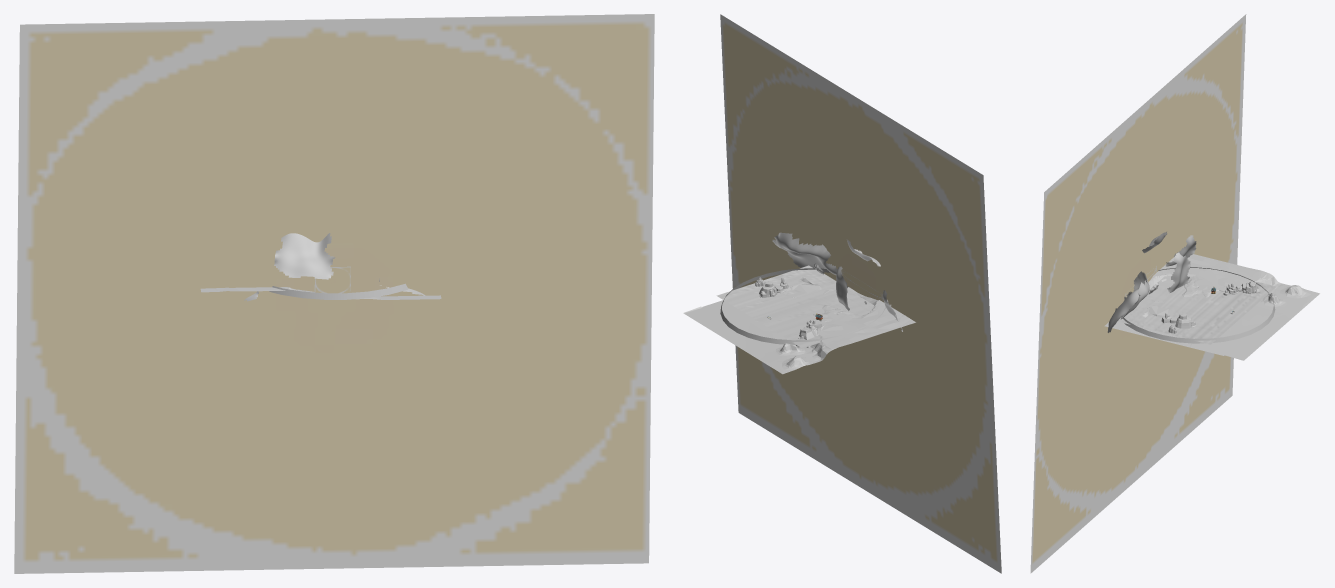
The model's file is Background_Morning (merge).fbx.
3 views of the same model, side by side, from view 1: azimuth 30°, elevation 25°; view 2: azimuth 150°, elevation 25°; view 3: azimuth 270°, elevation 25° (orthographic). The views are drawn at different scales.
Parts seen in each view (by area): view 1: Sun Shaft, Cloud004 (2), Sky_Inner; view 2: Sun Shaft, Ground001, wave001, Cloud005, Sky_Inner, LobbyGround; view 3: Sun Shaft, Ground001, wave001, Sky_Inner, Cloud005, LobbyGround, Cloud004.
Part boxes in pixels (x1=…): Sun Shaft: x1=14, y1=14, x2=654, y2=573; Cloud004 (2): x1=274, y1=233, x2=335, y2=279; Sky_Inner: x1=269, y1=283, x2=407, y2=299; Sun Shaft: x1=720, y1=14, x2=1001, y2=573; Ground001: x1=683, y1=274, x2=915, y2=374; wave001: x1=716, y1=265, x2=873, y2=348; Cloud005: x1=772, y1=232, x2=841, y2=275; Sky_Inner: x1=720, y1=268, x2=885, y2=344; LobbyGround: x1=755, y1=277, x2=821, y2=347; Sun Shaft: x1=1030, y1=14, x2=1246, y2=573; Ground001: x1=1104, y1=254, x2=1319, y2=360; wave001: x1=1117, y1=275, x2=1276, y2=344; Sky_Inner: x1=1115, y1=267, x2=1275, y2=343; Cloud005: x1=1107, y1=271, x2=1149, y2=332; LobbyGround: x1=1161, y1=281, x2=1259, y2=333; Cloud004: x1=1167, y1=252, x2=1190, y2=292.
Size of the model in its own units: 976 by 1000 by 670.
23 materials, 13 textured.
